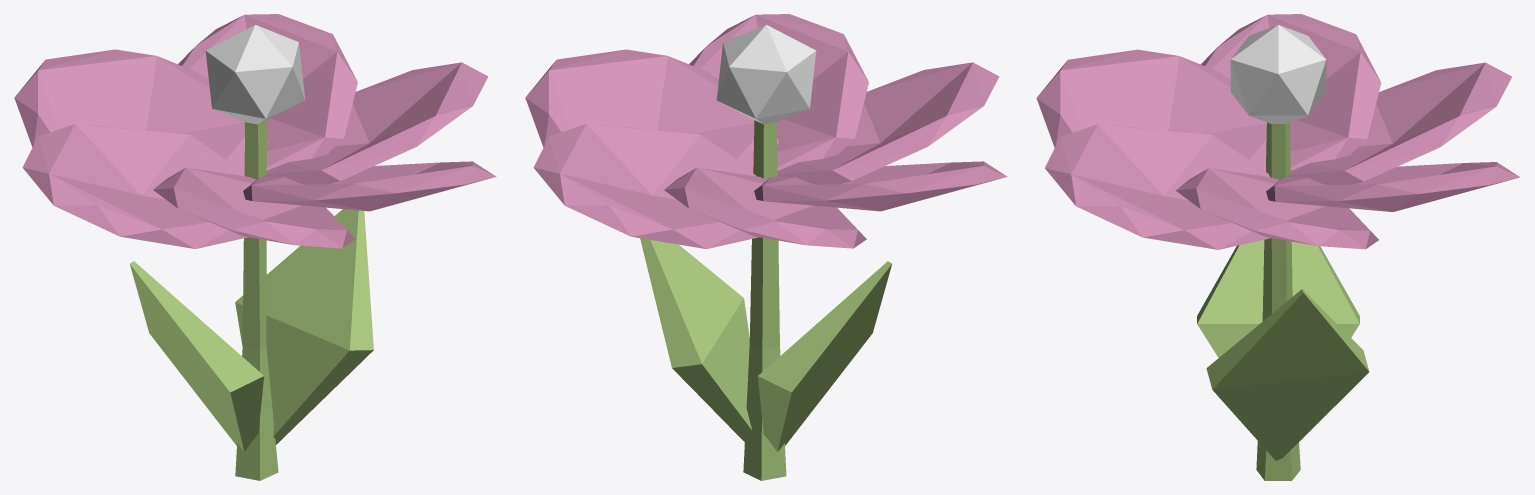
File: Flower01.fbx
3 renders of one model, left to right at view 1: azimuth 30°, elevation 25°; view 2: azimuth 150°, elevation 25°; view 3: azimuth 270°, elevation 25°, orthographic.
Visible parts, largest first — view 1: Cube; view 2: Cube; view 3: Cube.
Part boxes in pixels (x1,y1,x2,y2): Cube: (14, 14, 496, 480); Cube: (525, 14, 1007, 480); Cube: (1036, 14, 1519, 480).
Size of the model in its own units: 36.48 by 35.16 by 34.42.
